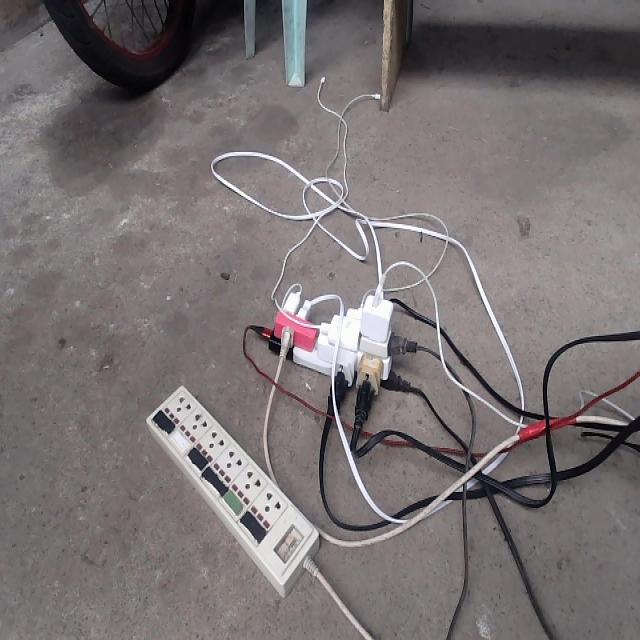-: (262, 279, 410, 396)
